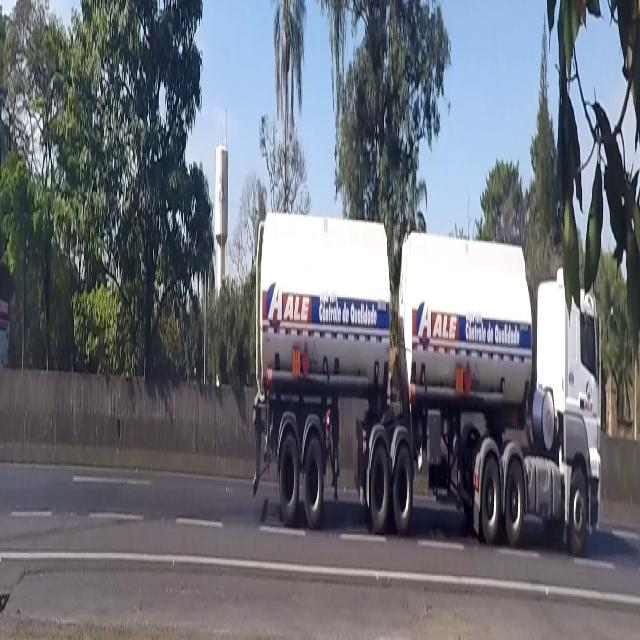-axle: (478, 431, 502, 544), (366, 429, 389, 539), (302, 429, 324, 542), (392, 429, 414, 539), (504, 434, 525, 546), (276, 420, 298, 525), (570, 464, 591, 558)
